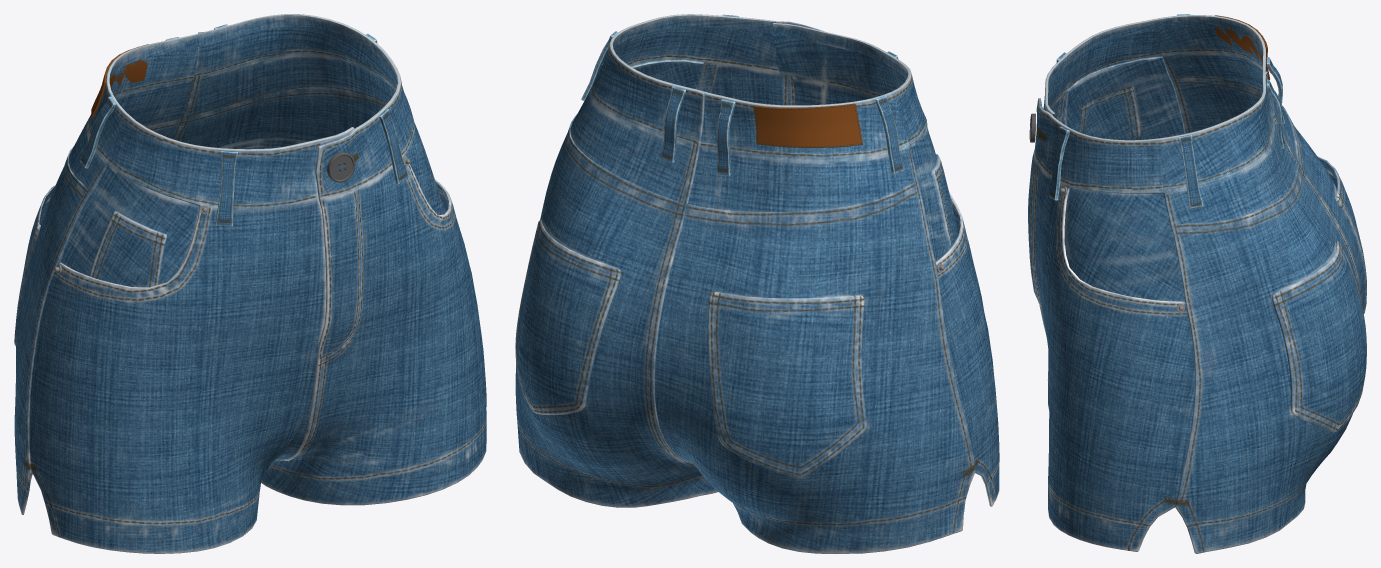
File: shorts.glb
The picture shows the model from 3 angles, left to right: view 1: azimuth 30°, elevation 25°; view 2: azimuth 150°, elevation 25°; view 3: azimuth 270°, elevation 25°; orthographic projection. The views are drawn at different scales.
Visible parts, largest first — view 1: Object_2; view 2: Object_2; view 3: Object_2.
Part boxes in pixels (x1=…): Object_2: x1=14, y1=14, x2=486, y2=553; Object_2: x1=515, y1=14, x2=999, y2=553; Object_2: x1=1028, y1=14, x2=1366, y2=553.
Bounding box in the file's own units: 32.55 × 30.31 × 23.13.
Materials: 1 (1 with a texture image).
